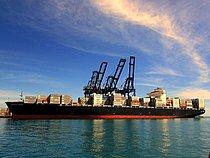Ship: (3, 53, 210, 125)
